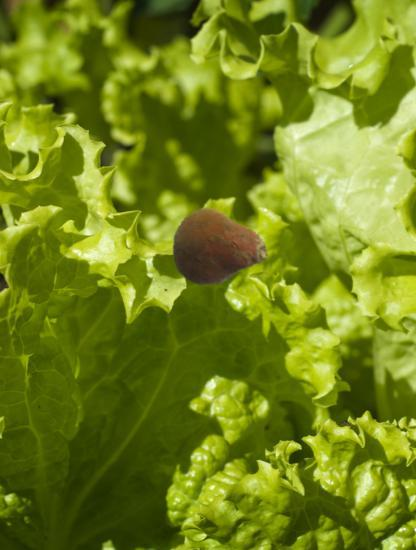Potato: (170, 204, 268, 302)
